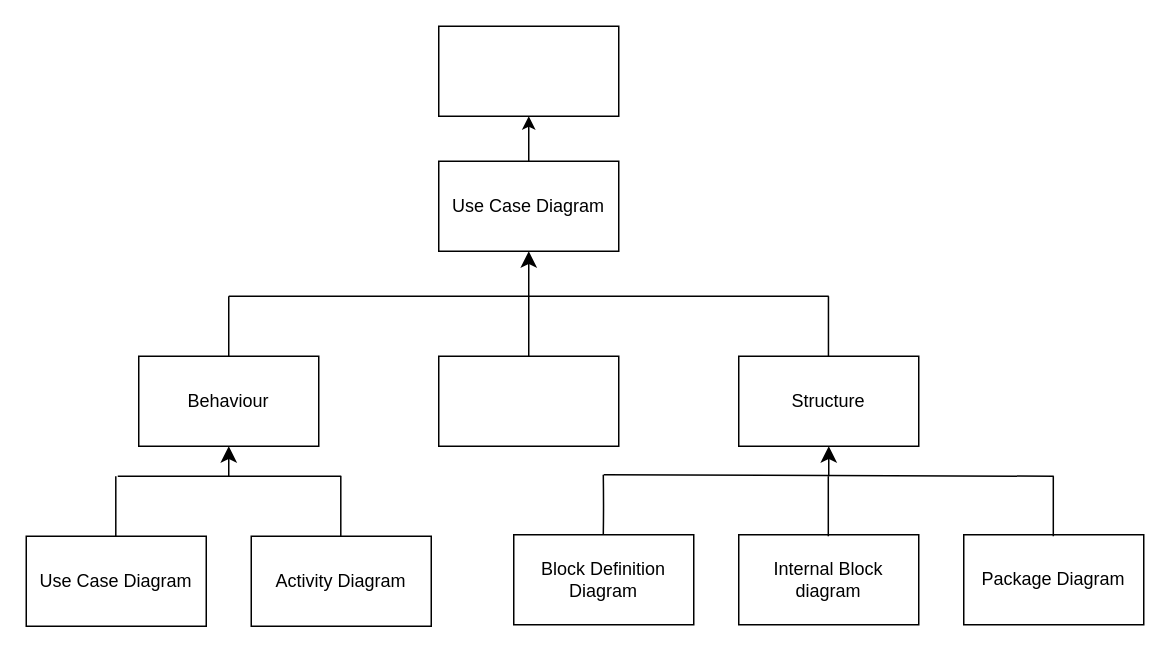
This 1170x653 diagram has some shape labels left out. The shapes that lost their labels are listed below. From the top down, each one's centre as x and y in pixels, then its label:
the point at 528,70: Sytem Context
the point at 528,400: Requirments
